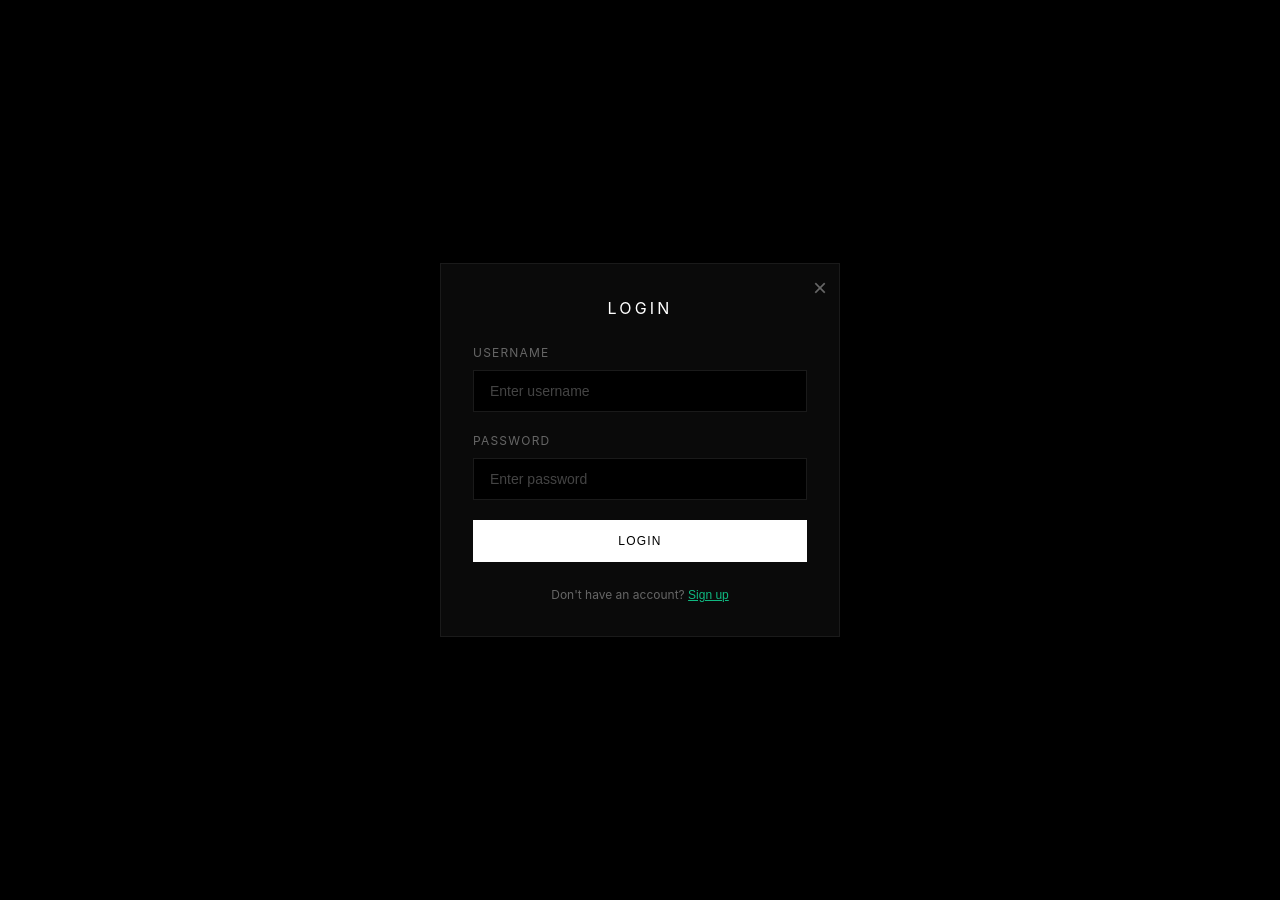
it: AuthModal › switches between login and register modes
Expected: the heading "Login" is shown, [607,298,672,318]
Click the button "Sign up".
click(708, 595)  # box [688,588,729,602]
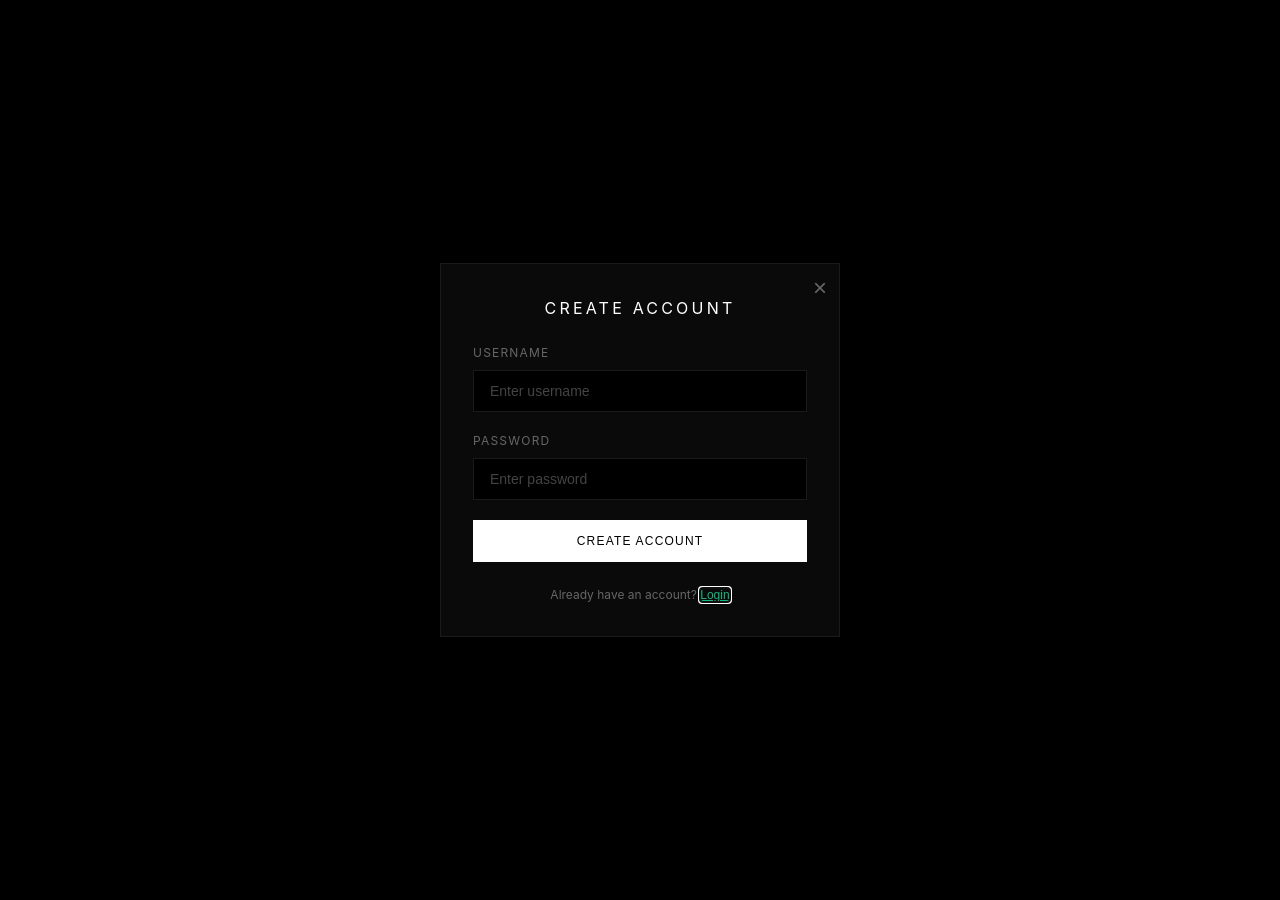
Result: the heading "Create Account" is shown at [544,298,735,318]
Click the button "Login".
click(715, 595)  # box [700,588,730,602]
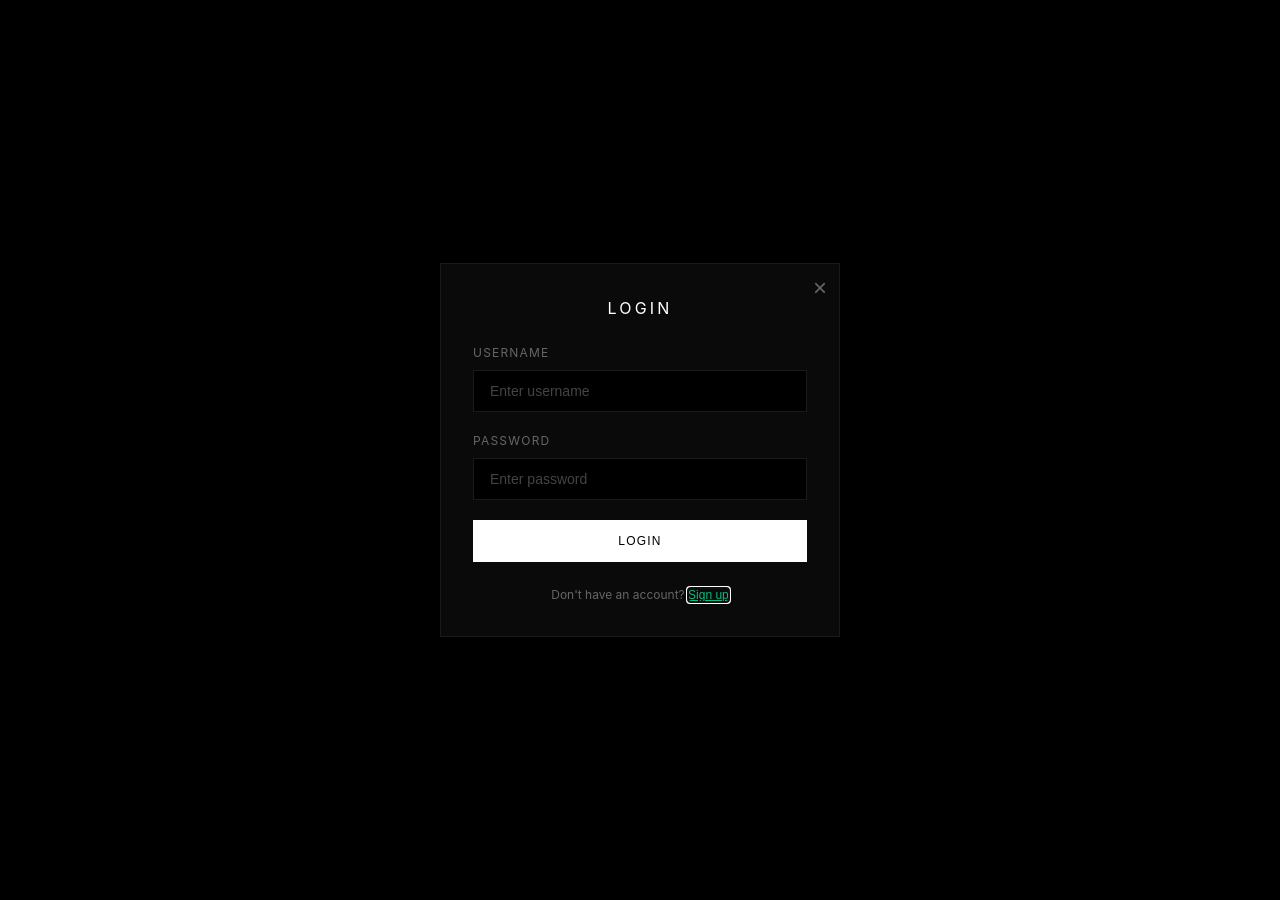
Result: the heading "Login" is shown at [607,298,672,318]
